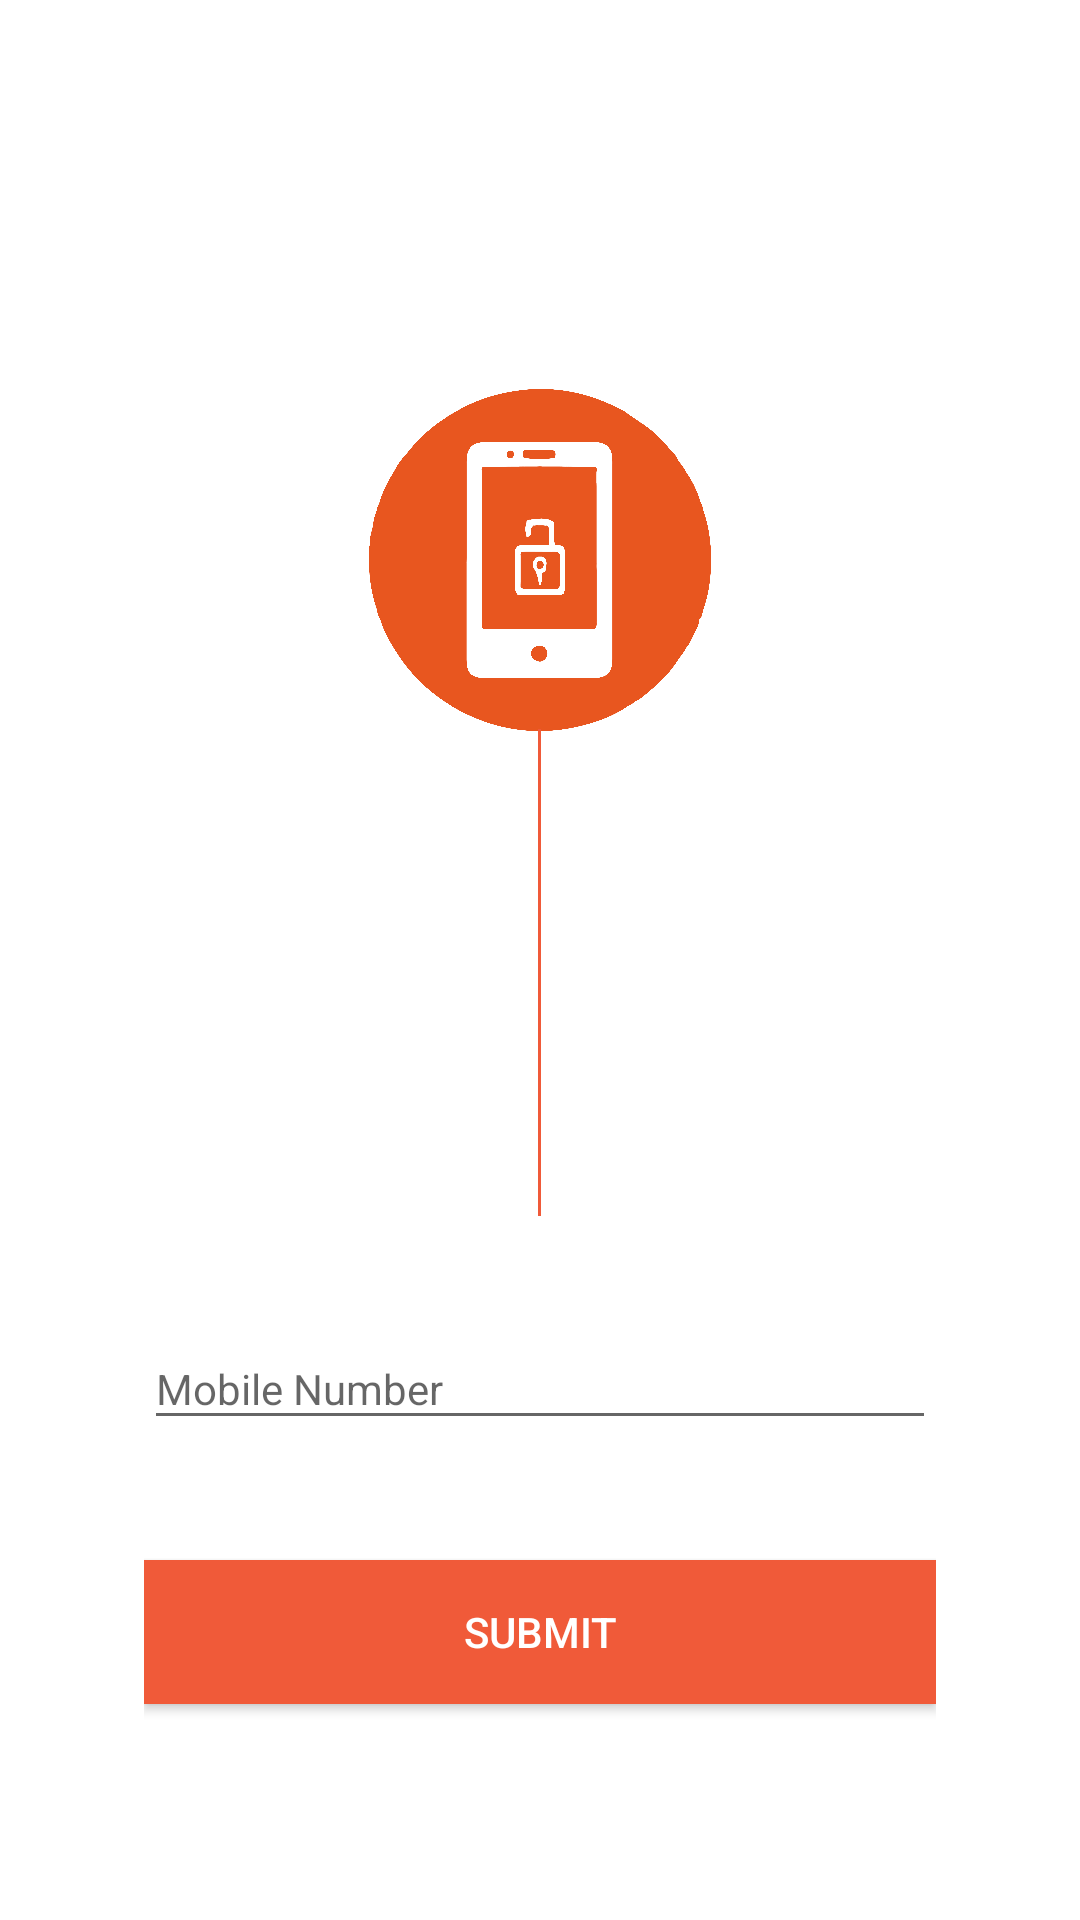

Locate icon controls on the screen. Image size 1080 x 1920, boxes as (x1, y1, x2, y2).
art auth: (369, 389, 711, 734)
